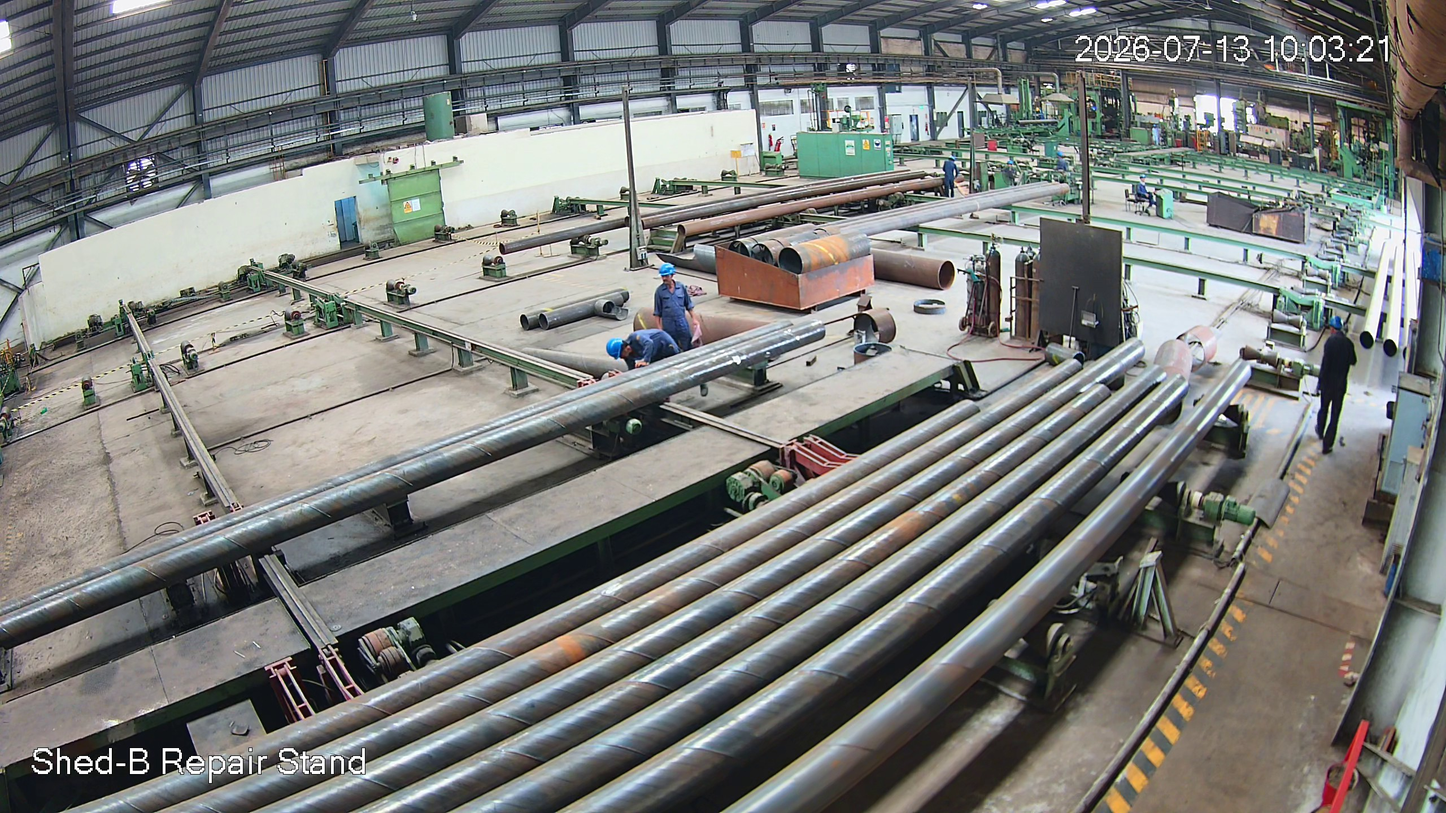Helmet: (604, 336, 637, 367), (657, 262, 675, 289), (1327, 314, 1345, 339)
Person: (1316, 316, 1357, 442), (652, 263, 697, 349), (607, 330, 689, 374)
